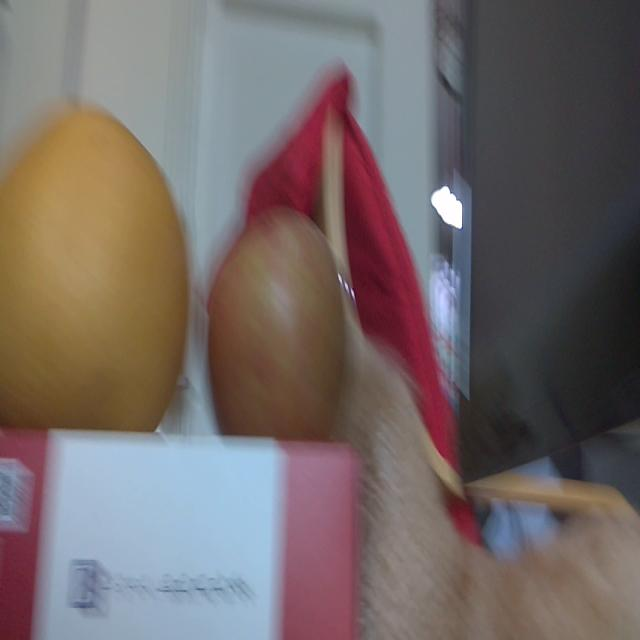apple: (205, 205, 347, 447)
pear: (0, 109, 189, 433)
